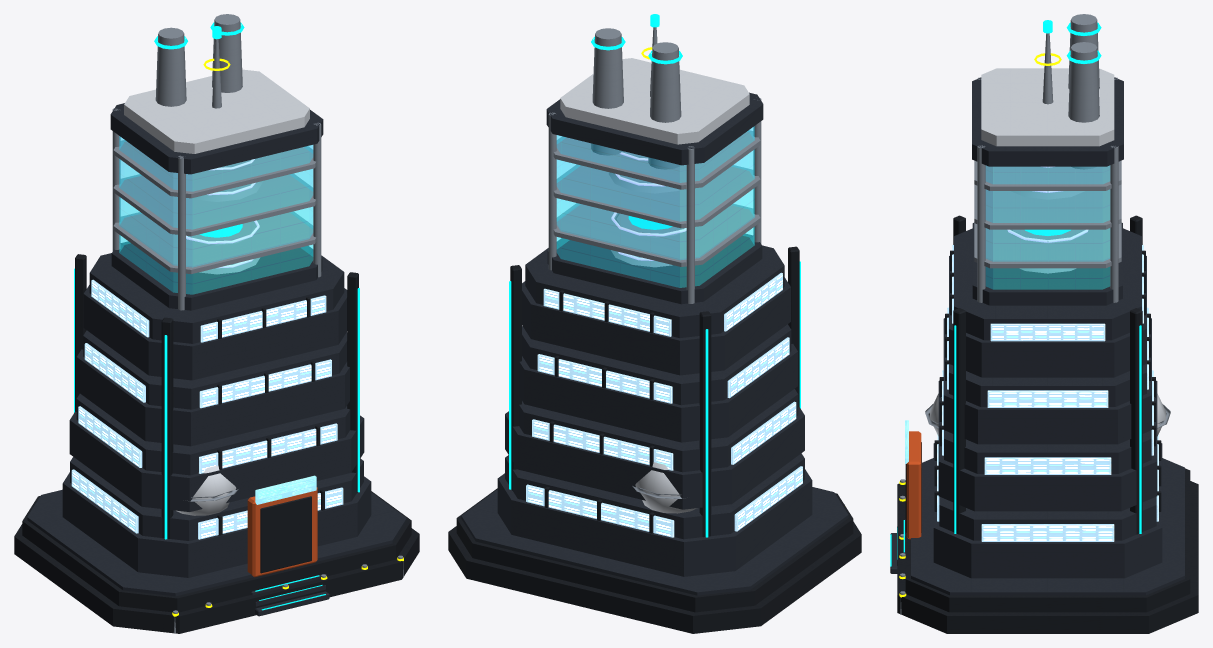
File: bldg_07_r1_01.glb
3 renders of one model, left to right at view 1: azimuth 30°, elevation 25°; view 2: azimuth 150°, elevation 25°; view 3: azimuth 270°, elevation 25°, orthographic. The views are drawn at different scales.
Visible parts, largest first — view 1: Bldg07_C01_carbon_slate, Bldg07_C01_steel_machined, Bldg07_C01_gunmetal, Bldg07_C01_glass_cyan, Bldg07_C01_window_lit, Bldg07_C01_aero_white, Bldg07_C01_led_cyan, Bldg07_C01_accent_orange, Bldg07_C01_marquee, Bldg07_C01_led_uv; view 2: Bldg07_C01_carbon_slate, Bldg07_C01_steel_machined, Bldg07_C01_gunmetal, Bldg07_C01_glass_cyan, Bldg07_C01_window_lit, Bldg07_C01_aero_white, Bldg07_C01_led_cyan, Bldg07_C01_led_uv; view 3: Bldg07_C01_carbon_slate, Bldg07_C01_gunmetal, Bldg07_C01_steel_machined, Bldg07_C01_glass_cyan, Bldg07_C01_window_lit, Bldg07_C01_aero_white, Bldg07_C01_led_cyan, Bldg07_C01_accent_orange.
Boxes of the visible parts, x1=… form: Bldg07_C01_carbon_slate: x1=27, y1=103, x2=406, y2=616; Bldg07_C01_steel_machined: x1=112, y1=14, x2=403, y2=633; Bldg07_C01_gunmetal: x1=14, y1=254, x2=419, y2=633; Bldg07_C01_glass_cyan: x1=119, y1=136, x2=313, y2=294; Bldg07_C01_window_lit: x1=71, y1=279, x2=343, y2=539; Bldg07_C01_aero_white: x1=124, y1=69, x2=309, y2=515; Bldg07_C01_led_cyan: x1=74, y1=22, x2=359, y2=610; Bldg07_C01_accent_orange: x1=247, y1=487, x2=317, y2=577; Bldg07_C01_marquee: x1=255, y1=475, x2=316, y2=504; Bldg07_C01_led_uv: x1=186, y1=159, x2=259, y2=268; Bldg07_C01_carbon_slate: x1=461, y1=92, x2=848, y2=595; Bldg07_C01_steel_machined: x1=548, y1=27, x2=844, y2=504; Bldg07_C01_gunmetal: x1=448, y1=246, x2=861, y2=633; Bldg07_C01_glass_cyan: x1=556, y1=126, x2=754, y2=287; Bldg07_C01_window_lit: x1=526, y1=272, x2=802, y2=537; Bldg07_C01_aero_white: x1=560, y1=58, x2=749, y2=513; Bldg07_C01_led_cyan: x1=509, y1=14, x2=800, y2=537; Bldg07_C01_led_uv: x1=611, y1=152, x2=686, y2=260; Bldg07_C01_carbon_slate: x1=890, y1=77, x2=1184, y2=595; Bldg07_C01_gunmetal: x1=897, y1=215, x2=1198, y2=633; Bldg07_C01_steel_machined: x1=900, y1=14, x2=1170, y2=614; Bldg07_C01_glass_cyan: x1=986, y1=165, x2=1109, y2=289; Bldg07_C01_window_lit: x1=937, y1=245, x2=1158, y2=541; Bldg07_C01_aero_white: x1=930, y1=68, x2=1165, y2=436; Bldg07_C01_led_cyan: x1=890, y1=20, x2=1141, y2=566; Bldg07_C01_accent_orange: x1=906, y1=431, x2=921, y2=539.
Size of the model in its own units: 12 by 19.62 by 10.23.
11 materials, 11 textured.
